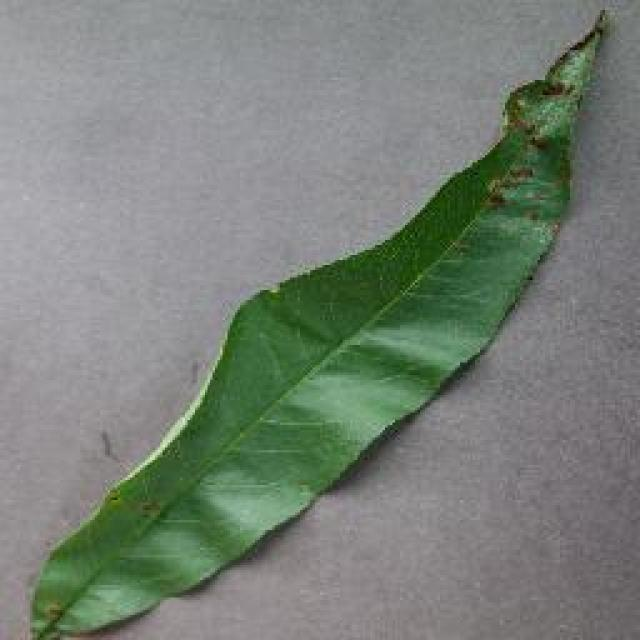Peach_Bacterial_Spot: (486, 38, 612, 228)
